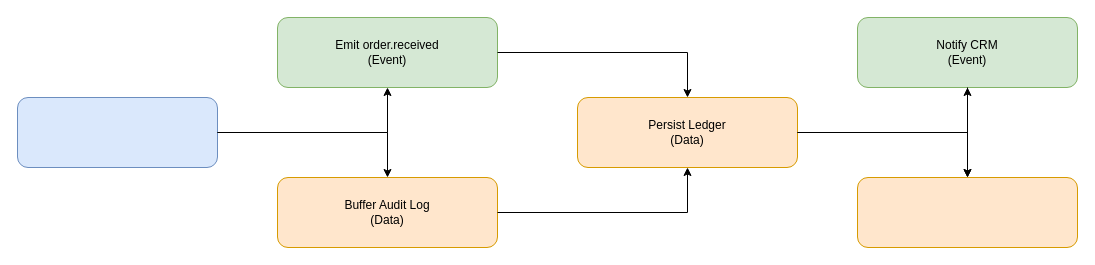
Some shapes in this 1095 by 265 pixel diagram are drawn without their labels. Each missing label, with the box of its shape:
Generate Report (Data): (856, 176, 1078, 248)
Submit Order (API): (16, 96, 218, 168)
